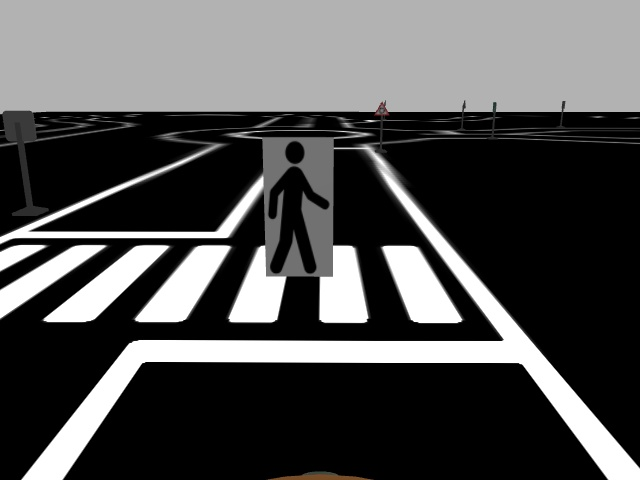pedestrian: (260, 133, 336, 279)
